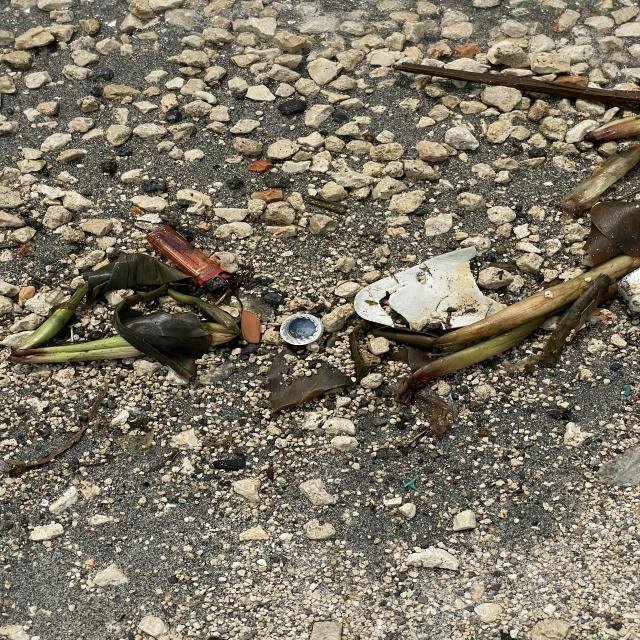litter: (278, 313, 324, 346)
